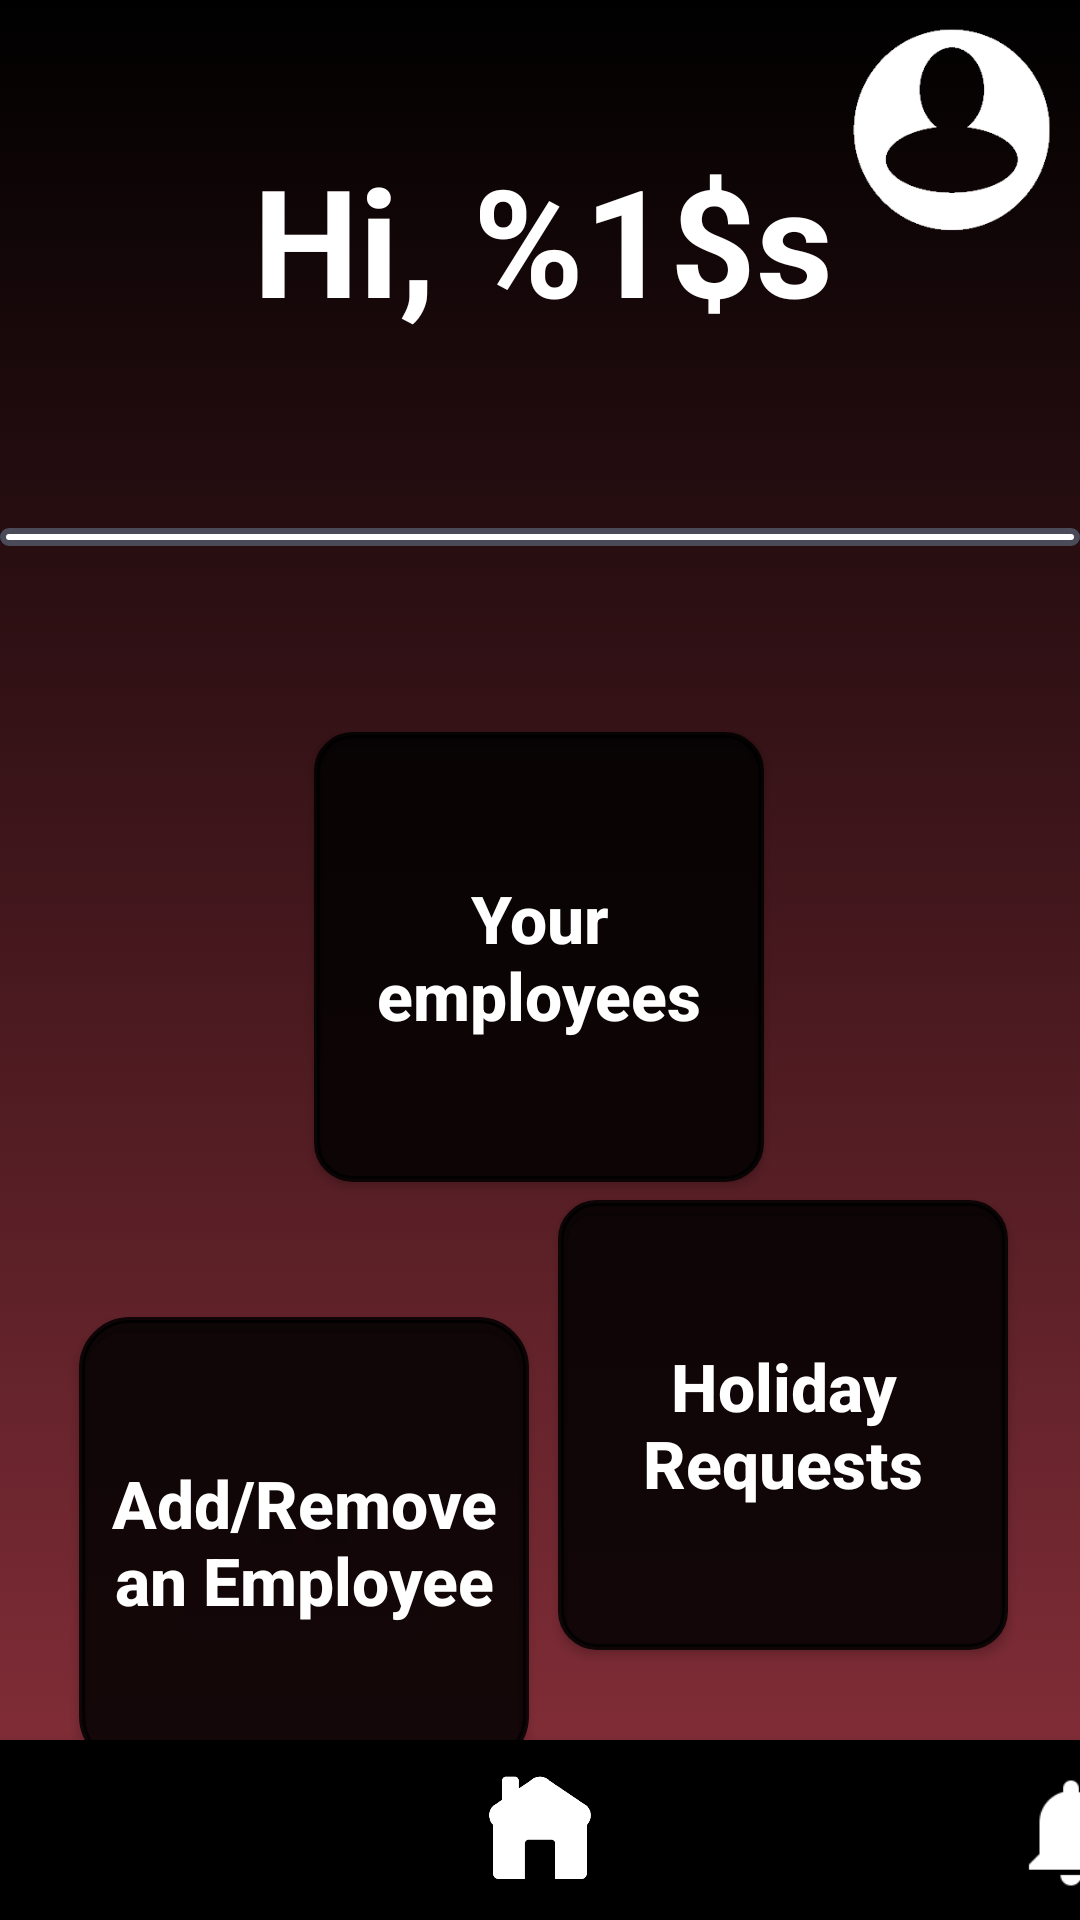

Where icons sit on this 1080×1920 app screen, as bbox=[x1, y1, x2, y2]:
homeicon: bbox=[489, 1776, 591, 1879]
Profile Image: bbox=[853, 29, 1050, 231]
